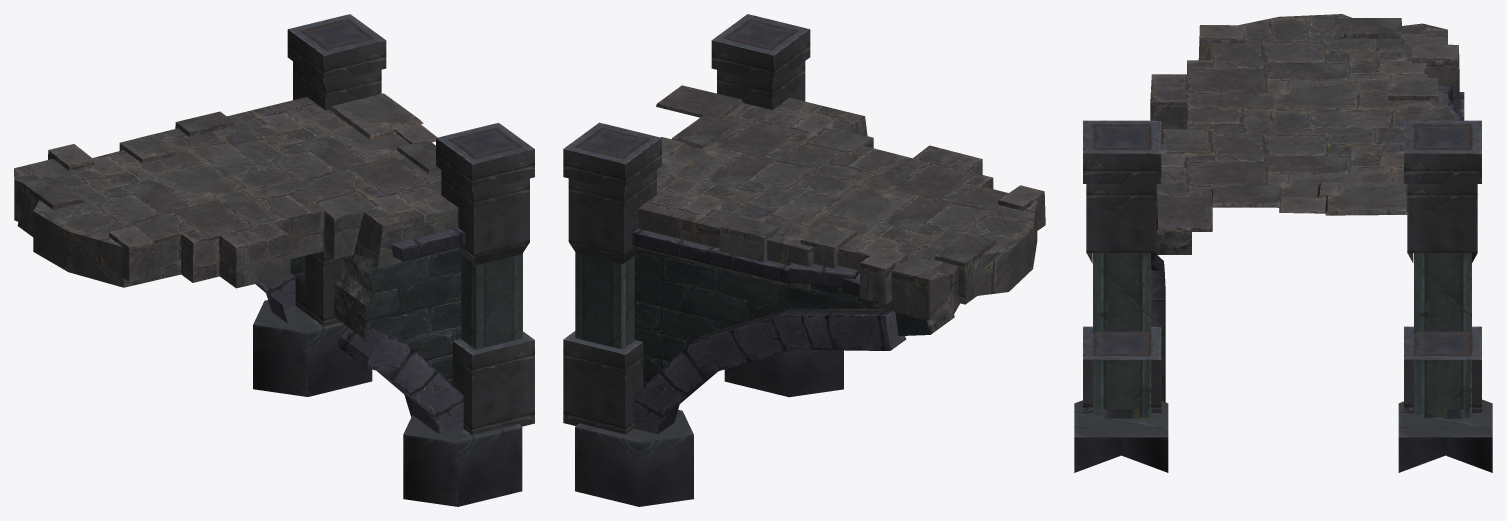
Rendered from building_section02_guanka10C08.FBX.
The picture shows the model from 3 angles, left to right: view 1: azimuth 30°, elevation 25°; view 2: azimuth 150°, elevation 25°; view 3: azimuth 270°, elevation 25°; orthographic projection. The views are drawn at different scales.
Visible parts, largest first — view 1: building_section02_guanka10C08; view 2: building_section02_guanka10C08; view 3: building_section02_guanka10C08.
Boxes of the visible parts, x1,y1,x2,y2 form: building_section02_guanka10C08: (14,14,534,506); building_section02_guanka10C08: (563,14,1045,506); building_section02_guanka10C08: (1074,14,1492,472).
Size of the model in its own units: 14.92 by 11.55 by 12.09.
